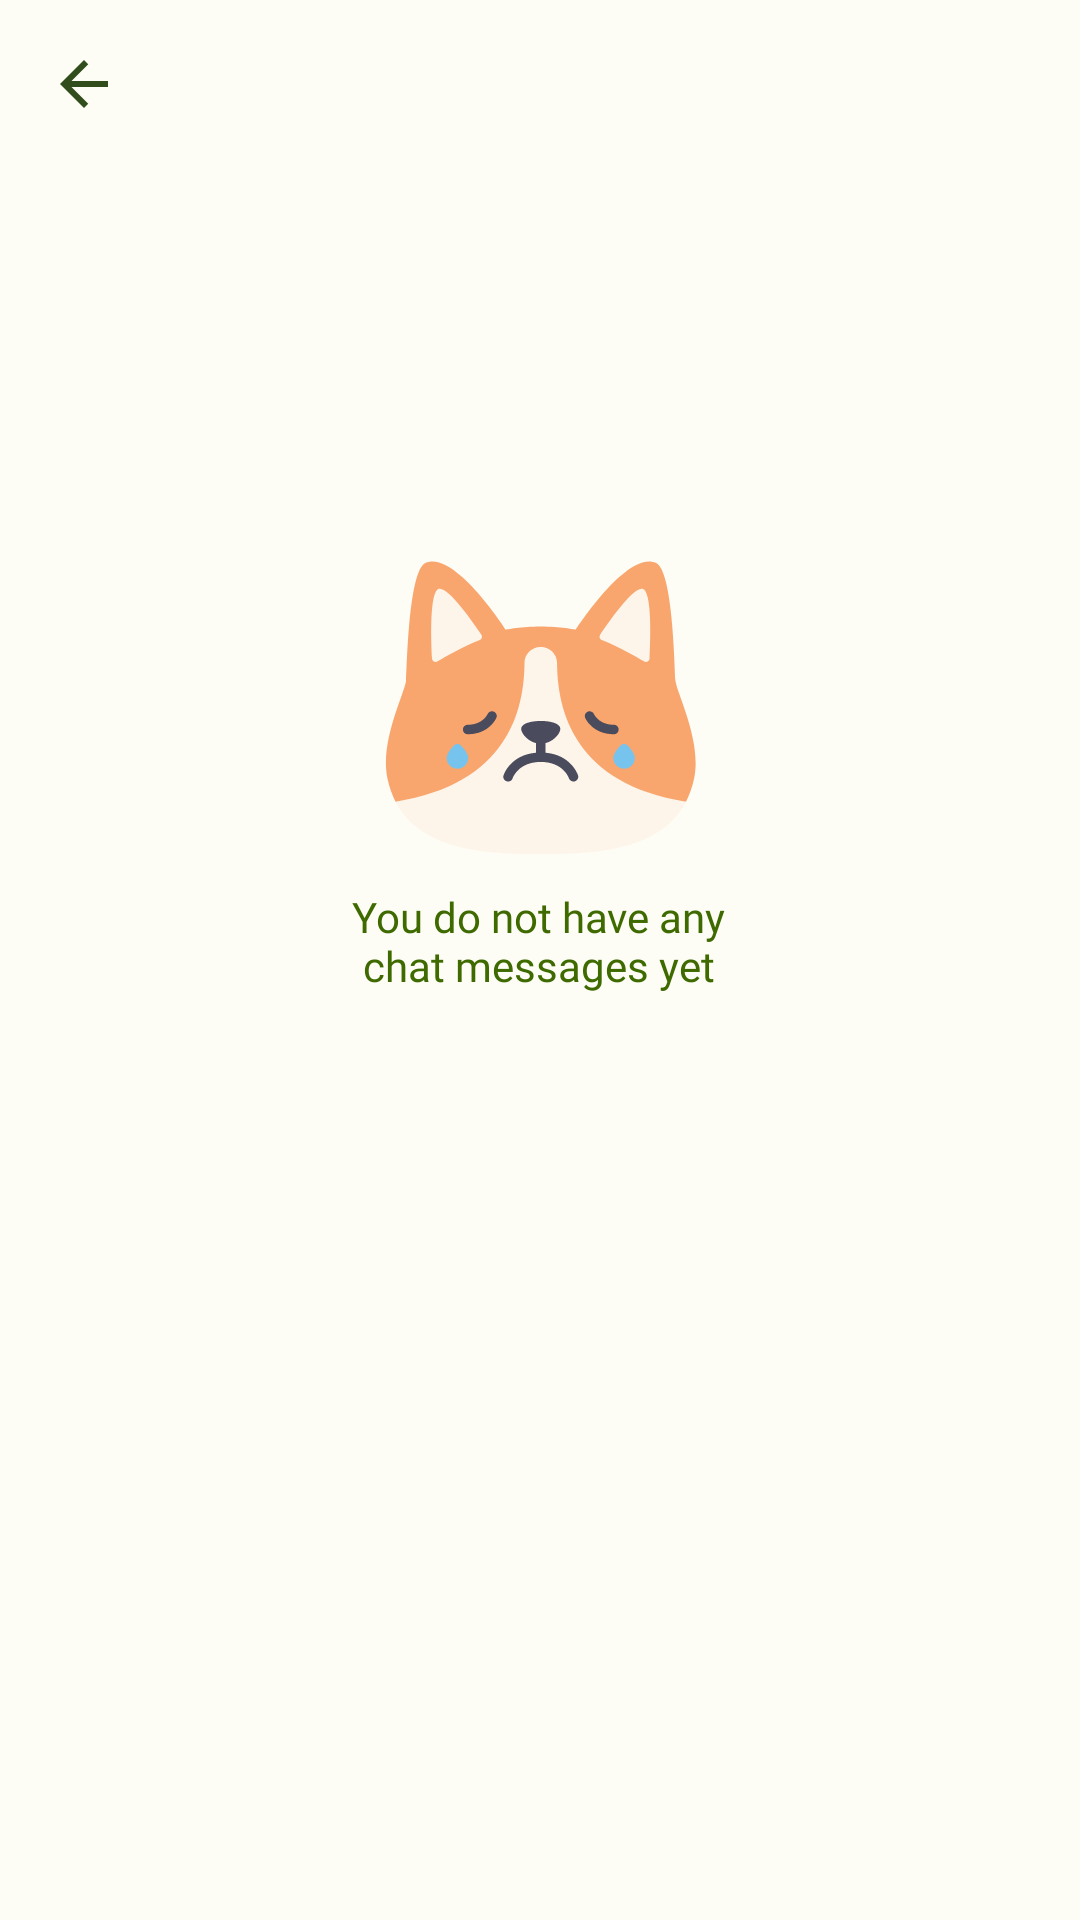

Icons on this 1080px x 1920px Android screen, each with the point to tap as [x,y]:
back arrow: [84,84]
sad dog: [541,681]
